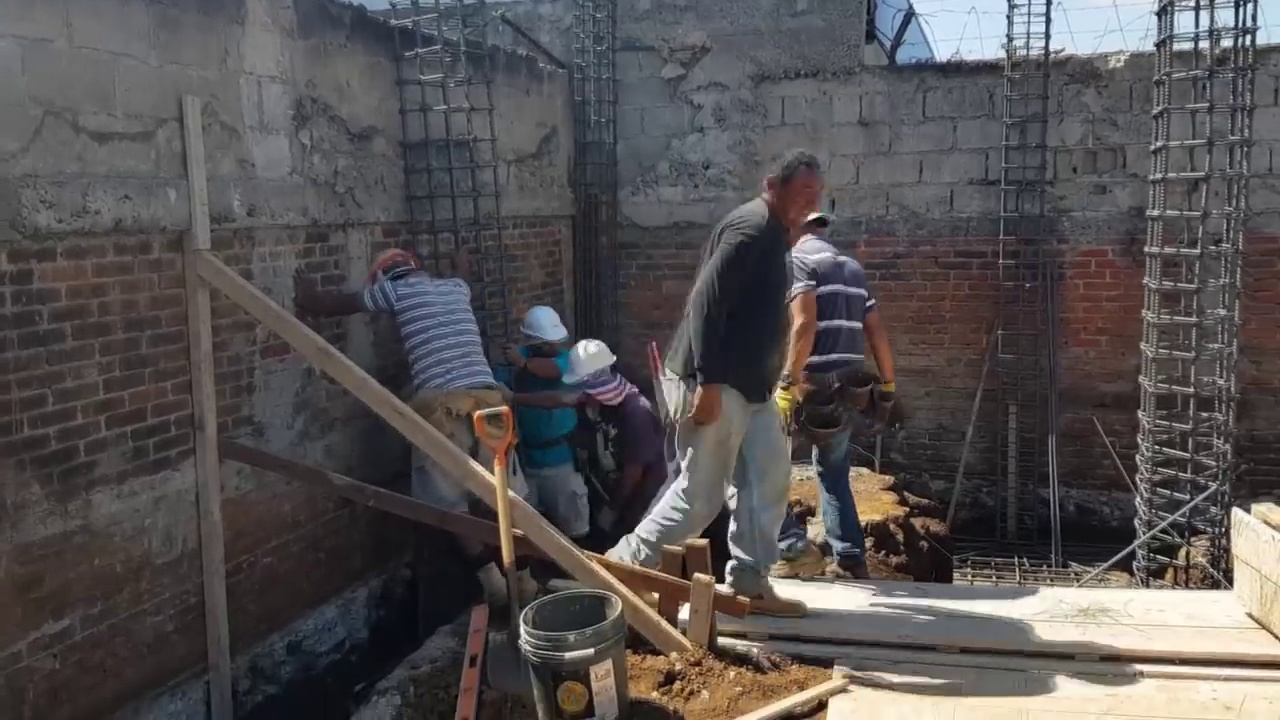helmet: (567, 340, 614, 389), (520, 305, 564, 347), (370, 248, 419, 277)
helmet-off: (758, 150, 827, 237)
helmet-on: (568, 339, 625, 409), (520, 304, 566, 371), (369, 248, 424, 282)
person: (649, 141, 839, 634), (293, 244, 519, 577), (782, 186, 890, 610), (560, 335, 656, 521), (506, 305, 587, 523)
